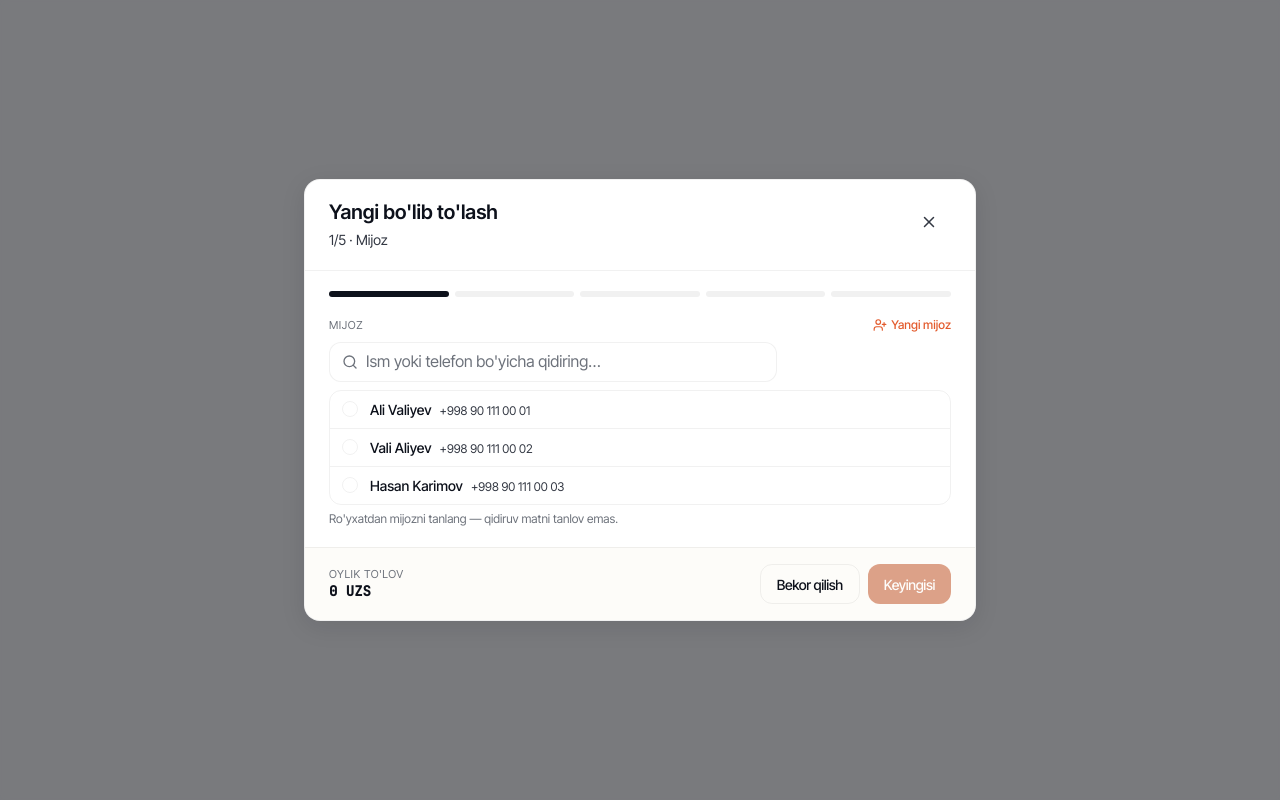
Scenario: search text is not a selection › clicking a row selects that row, and only then does Next unlock
Click the text "Vali Aliyev". click: (401, 447)
box: [370,438,432,456]
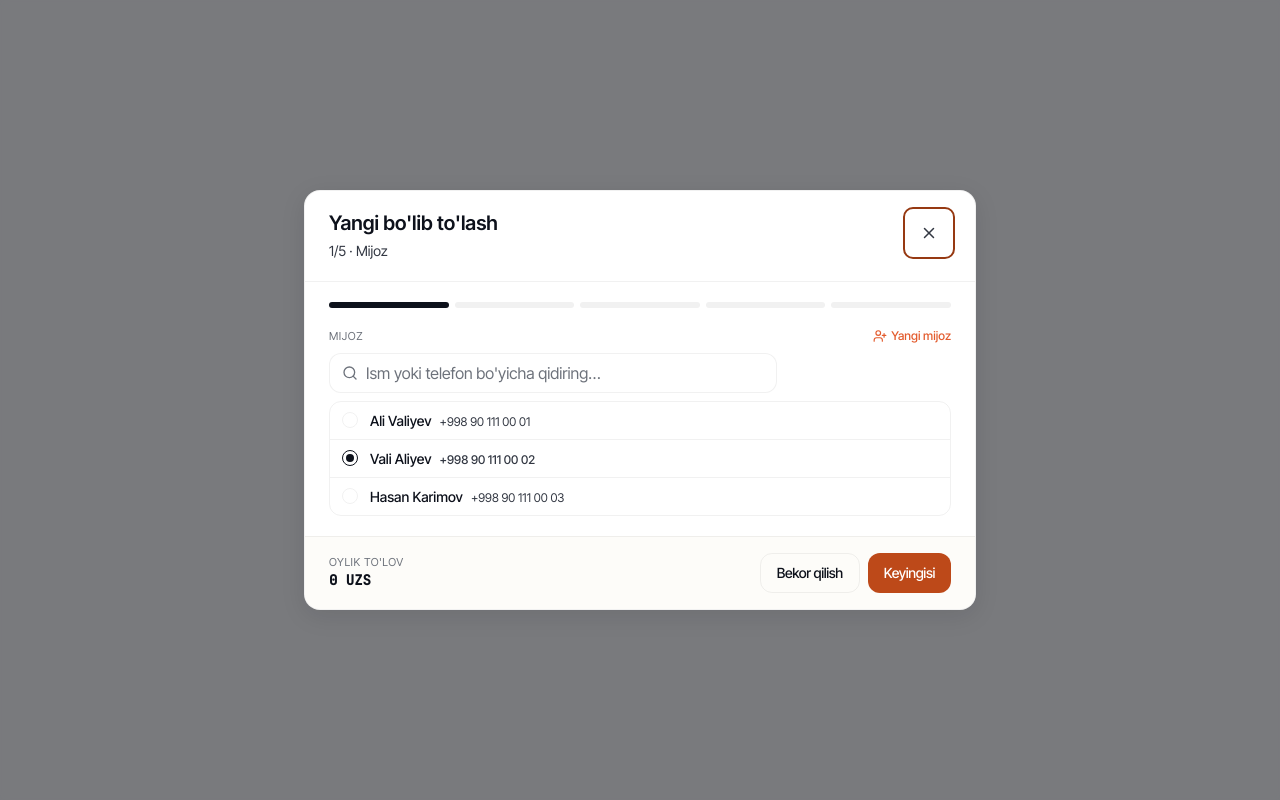
Expected: the option "Vali Aliyev+998 90 111 00 02" is shown, [330,439,950,477]
Now the button "Keyingisi" is enabled, box [868,553,951,593]
